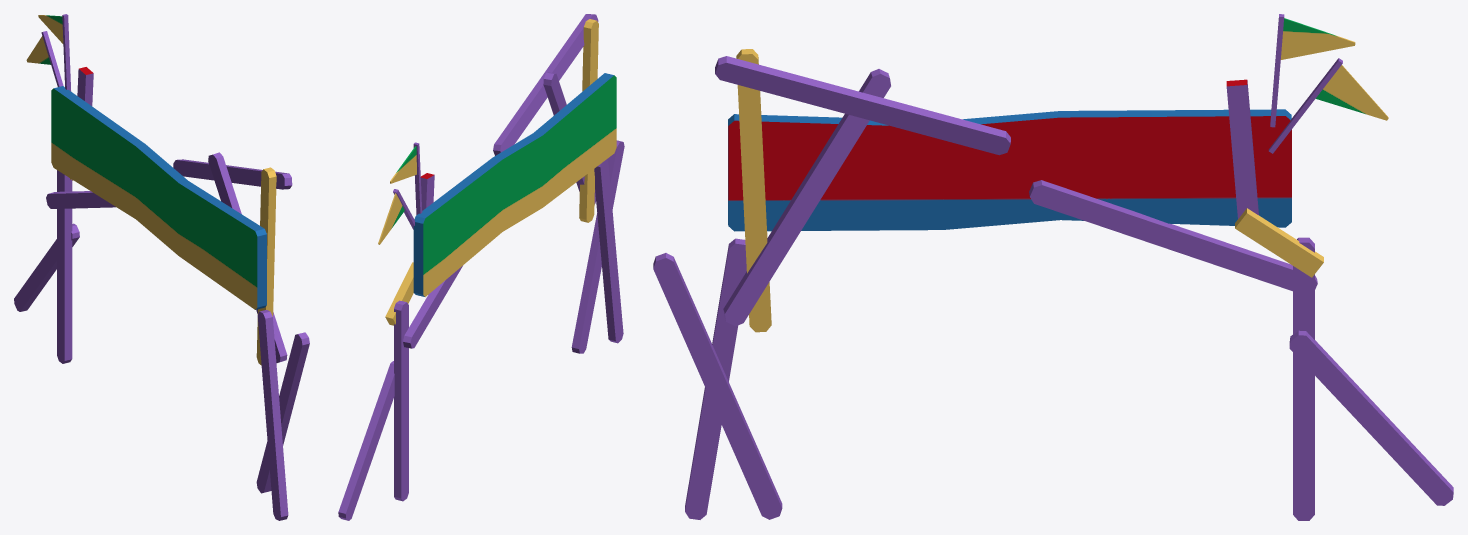
Rendered from PV_bannerF.fbx.
The picture shows the model from 3 angles, left to right: view 1: azimuth 30°, elevation 25°; view 2: azimuth 150°, elevation 25°; view 3: azimuth 270°, elevation 25°; orthographic projection. The views are drawn at different scales.
Visible parts, largest first — view 1: pCube42; view 2: pCube42; view 3: pCube42.
Part boxes in pixels (box(x1,y1,x2,y2)): pCube42: box(14, 14, 309, 520); pCube42: box(338, 14, 624, 520); pCube42: box(653, 14, 1453, 520).
Size of the model in its own units: 275 by 2503 by 3645.
